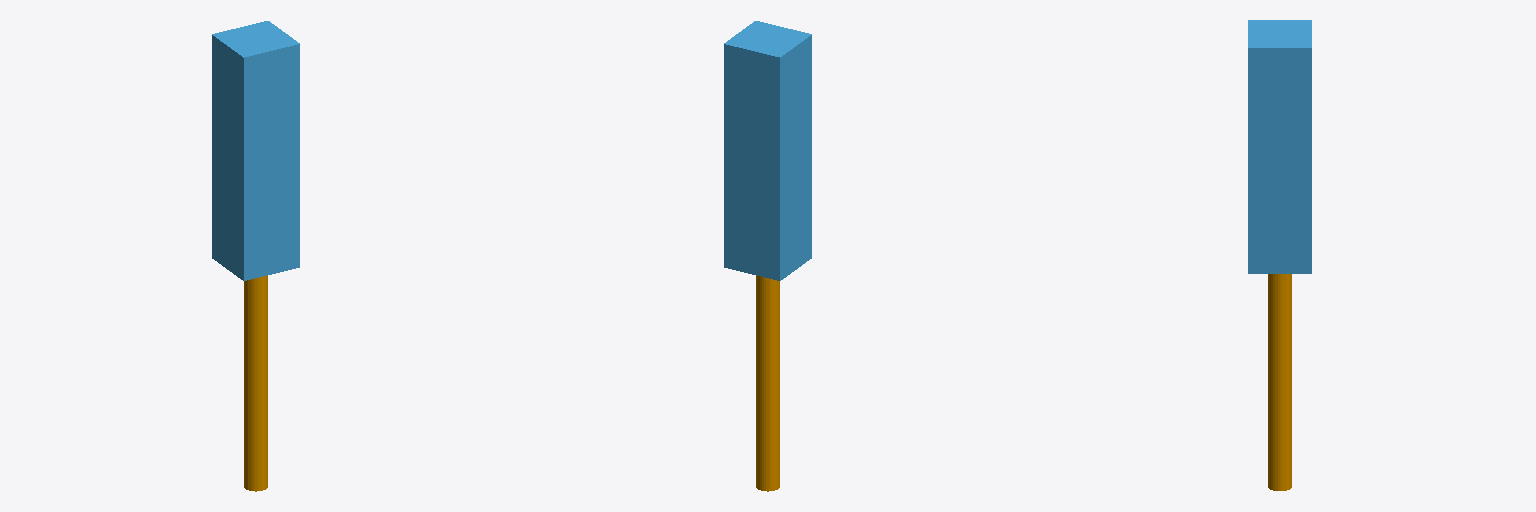
URDF robot description (screwdriver_on_the_table):
<?xml version="1.0" ?>
<!-- this is the one without any virtual joints and links -->
<robot name="screwdriver_on_the_table">
<link name="screwdriver_stick">
    <inertial>
      <mass value="0.05"/>
      <!-- <friction value="1.0"/> -->
      <inertia ixx="0.000041979" ixy="0.0" ixz="0.0" iyy="0.000041979" iyz="0.0" izz="0.000000625"/>
    </inertial>
    <visual>
        <origin rpy="0 0 0" xyz="0 0 0.05"/>
        <geometry>
            <cylinder radius="0.005" length="0.1"/>
        </geometry>
        <!-- <material name="White">
	 	    <color rgba="0.9 0.9 0.9 0.5"/>
        </material> -->
    </visual>
    <collision>
        <origin rpy="0 0 0" xyz="0 0 0.05"/>
        <geometry>
            <cylinder radius="0.005" length="0.1"/>
        </geometry>
    </collision>
</link>

<gazebo reference="screwdriver_body">
    <mu1>0.558377</mu1>
    <mu2>1.216193</mu2>
    <!-- Isaac Sim maps mu1/mu2 to PhysX static/dynamic friction during URDF→USD import -->
</gazebo>

<joint name="screwdriver_stick_body_joint" type="fixed">
    <parent link="screwdriver_stick"/>
    <child link="screwdriver_body"/>
    <origin rpy="0 0 0" xyz="0 0 0.1"/> 
    <axis xyz="0 0 1"/>
</joint>

<link name="screwdriver_body">
    <inertial>
      <mass value="0.091681"/>
      <inertia ixx="0.000081524" ixy="0.0" ixz="0.0" iyy="0.000081779" iyz="0.0" izz="0.000010502"/>
    </inertial>
    <visual>
        <origin rpy="0 0 0" xyz="0 0 0.05"/>
        <geometry>
            <box size="0.026533 0.025896 0.100000"/>
        </geometry>
        <!-- <material name="Red1">
	 	    <color rgba="0.9 0. 0. 0.5"/>
        </material> -->
    </visual>
    <collision>
        <origin rpy="0 0 0" xyz="0 0 0.05"/>
        <geometry>
            <box size="0.026533 0.025896 0.100000"/>
        </geometry>
    </collision>
</link>

<!-- <joint name="screwdriver_body_cap_joint" type="revolute">
    <parent link="screwdriver_body"/>
    <child link="screwdriver_cap"/>
    <origin rpy="0 0 0" xyz="0 0 0.1"/> 
    <axis xyz="0 0 1"/>
</joint>

<link name="screwdriver_cap">
    <inertial>
      <mass value="0.005"/>
      <inertia ixx="0.00001" ixy="0.0" ixz="0.0" iyy="0.000005" iyz="0.0" izz="0.000005"/>
    </inertial>
    <visual>
        <origin rpy="0 0 0" xyz="0 0 0.0006"/>
        <geometry>
            <cylinder radius="0.02" length="0.001"/>
        </geometry>
        <material name="Yellow">
	 	    <color rgba="0.9 0.9 0. 1.0"/>
        </material>
    </visual>
    <collision>
        <origin rpy="0 0 0" xyz="0 0 0.0005"/>
        <geometry>
            <cylinder radius="0.02" length="0.001"/>
        </geometry>
    </collision>
</link> -->

</robot>

--- Facts derived from the render (not from the file) ---
Views: 3 orthographic renders of the robot side by side, from view 1: azimuth 30°, elevation 25°; view 2: azimuth 150°, elevation 25°; view 3: azimuth 270°, elevation 25°.
Robot: screwdriver_on_the_table — 2 links, 1 joints (1 fixed); root link screwdriver_stick; default pose: all joints at 0.
Visible links, largest first — view 1: screwdriver_body, screwdriver_stick; view 2: screwdriver_body, screwdriver_stick; view 3: screwdriver_body, screwdriver_stick.
Link boxes in pixels (x1,y1,x2,y2): screwdriver_body: (212,21,299,280); screwdriver_stick: (244,275,267,491); screwdriver_body: (724,21,811,280); screwdriver_stick: (756,275,779,491); screwdriver_body: (1248,20,1311,273); screwdriver_stick: (1268,274,1291,490).
Bounding box of the posed robot: 0.0265 × 0.0259 × 0.2 m (x, y, z).
Geometry: primitives only (box / cylinder / sphere), no mesh files.
